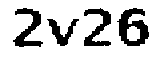2: (10, 6, 47, 50), (81, 6, 114, 49)
6: (114, 5, 152, 51)
v: (47, 15, 78, 47)
